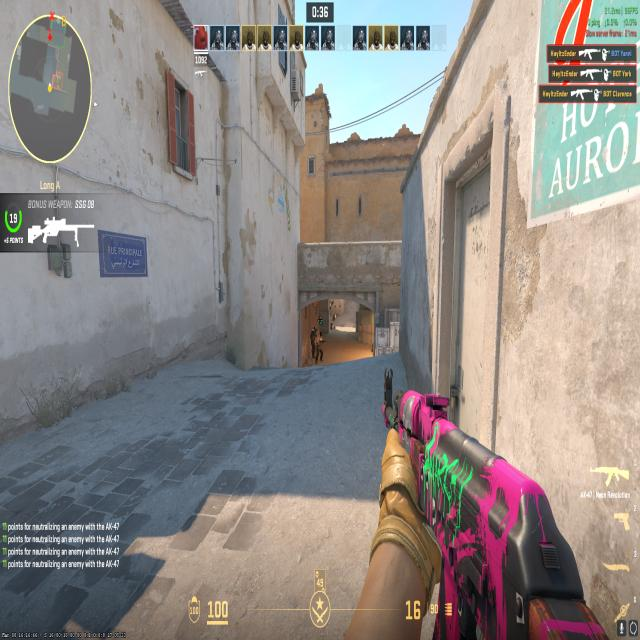ct: (306, 325, 316, 356)
t: (315, 333, 324, 361)
